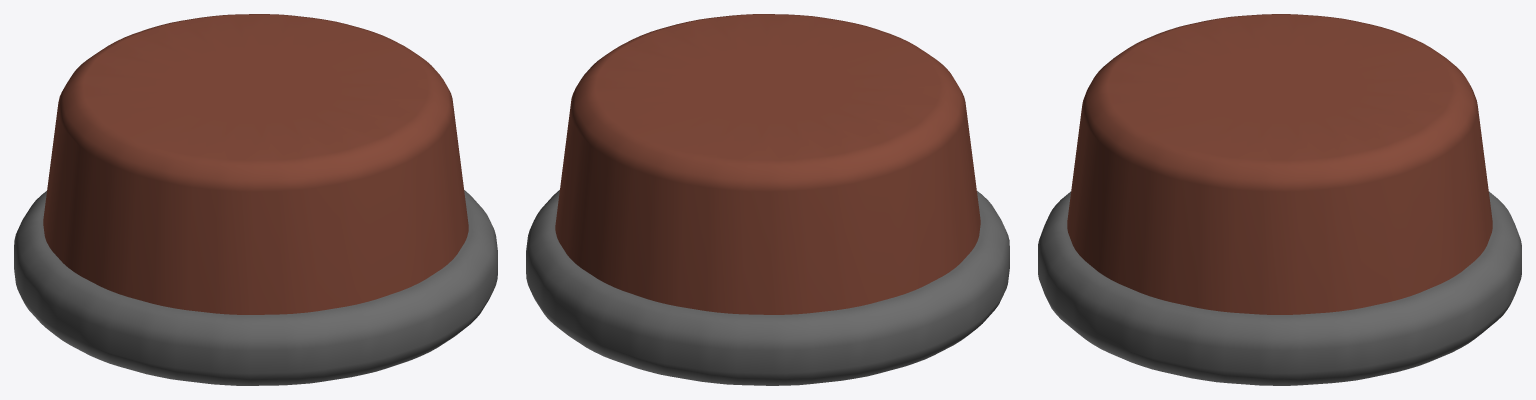
Rendered from Button.fbx.
3 renders of one model, left to right at view 1: azimuth 30°, elevation 25°; view 2: azimuth 150°, elevation 25°; view 3: azimuth 270°, elevation 25°, orthographic.
Visible parts, largest first — view 1: pCylinder1, pCylinder2; view 2: pCylinder1, pCylinder2; view 3: pCylinder1, pCylinder2.
Part boxes in pixels (x1,y1,x2,y2): pCylinder1: (43, 14, 468, 314); pCylinder2: (14, 190, 497, 385); pCylinder1: (555, 14, 980, 314); pCylinder2: (526, 190, 1009, 385); pCylinder1: (1067, 14, 1492, 314); pCylinder2: (1038, 191, 1521, 385).
Size of the model in its own units: 2.17 by 1.02 by 2.17.
